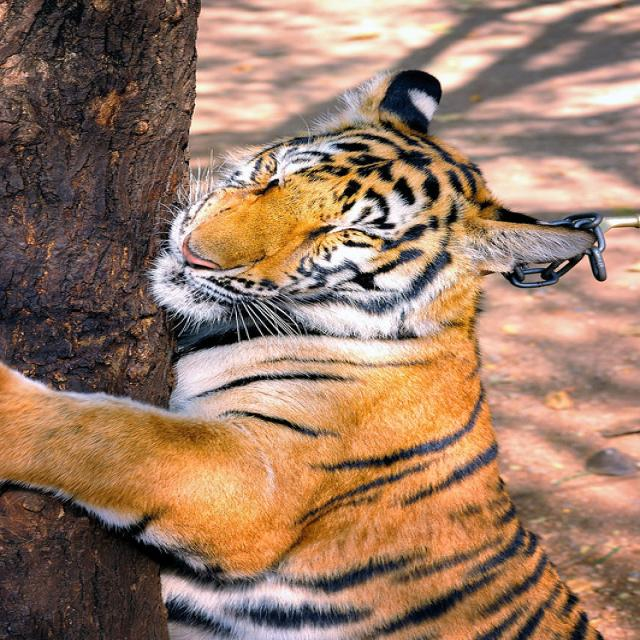Tiger: (0, 76, 610, 638)
